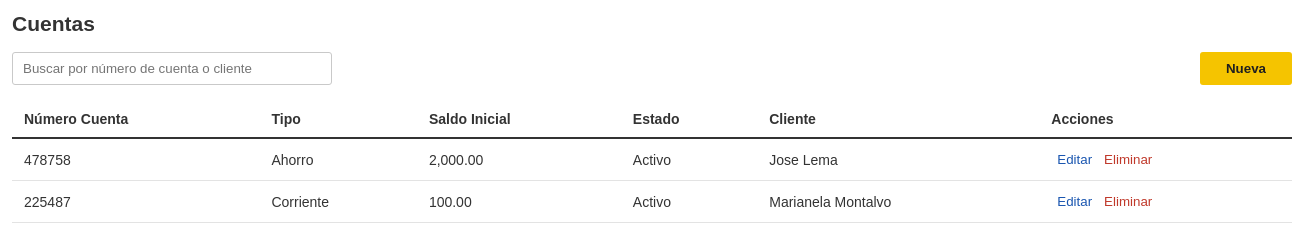
Test case: CuentasComponent › la búsqueda filtra por número de cuenta o nombre del cliente
The image size is (1304, 240).
Type "marianela" into the field with class "campo-busqueda" at coordinates (172, 68), box [12,52,332,85]
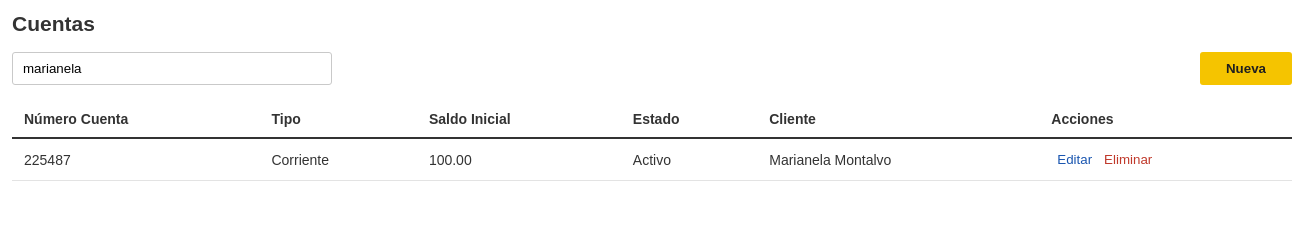
Expected: the row that starts with "Corriente" shows "225487", [24,152,71,168]
Replace the text in the field with class "campo-busqueda" with "478758" at coordinates (172, 68), box [12,52,332,85]
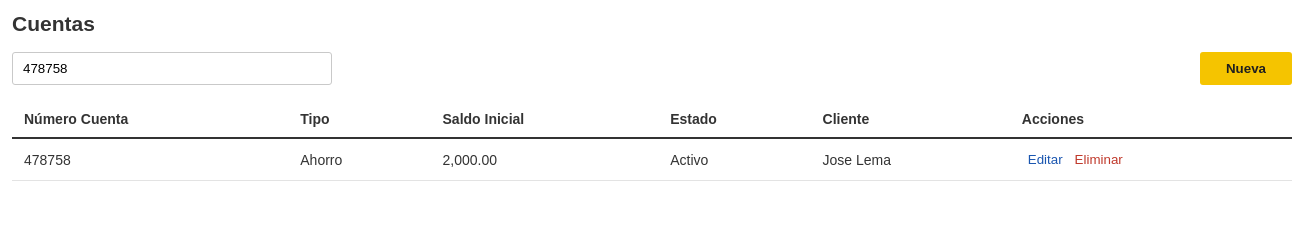
Expected: the row "478758 Ahorro 2,000.00 Activo Jose Lema Editar Eliminar" is shown, [12,138,1292,180]
